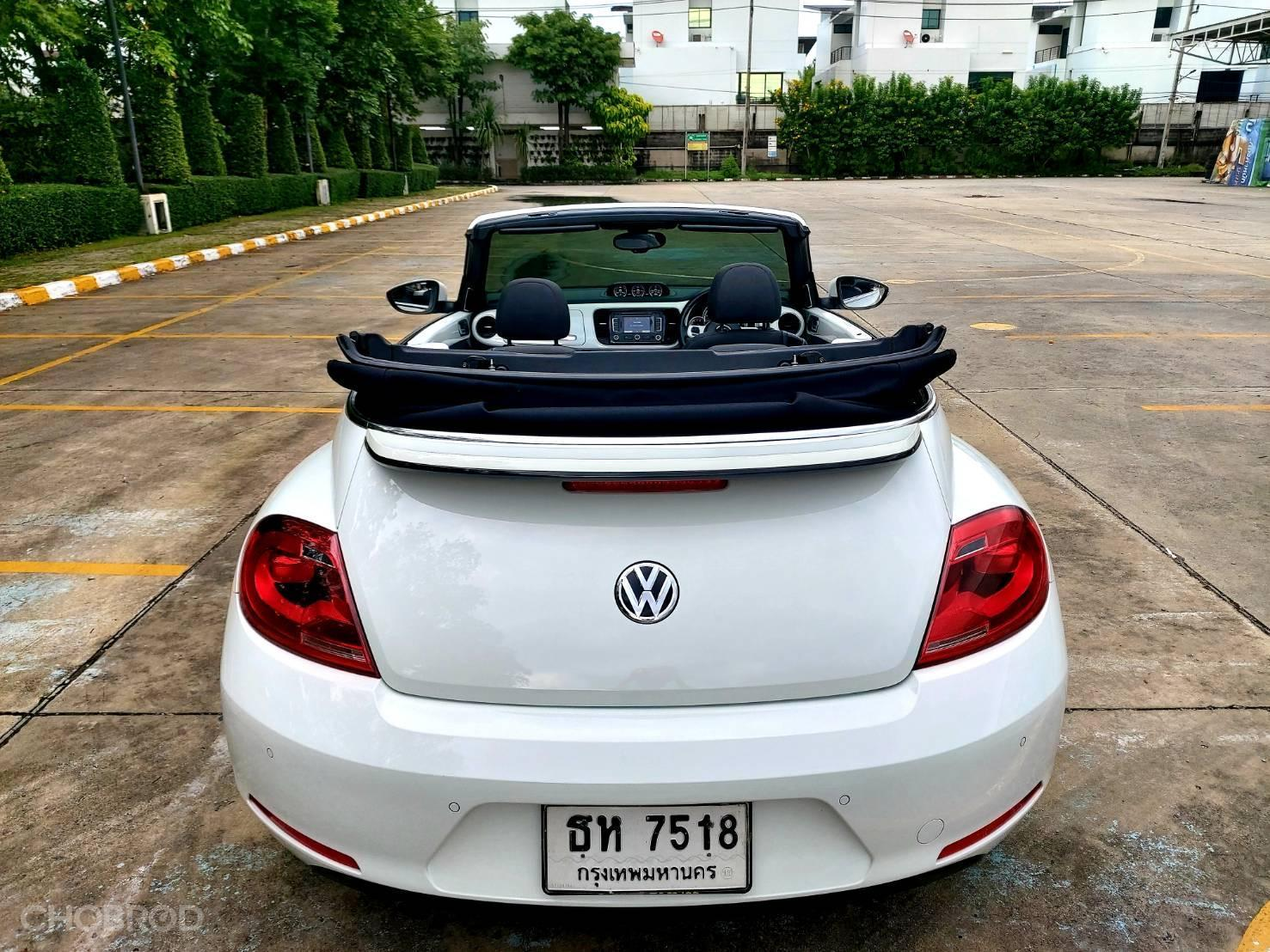license-plate: (536, 799, 760, 898)
